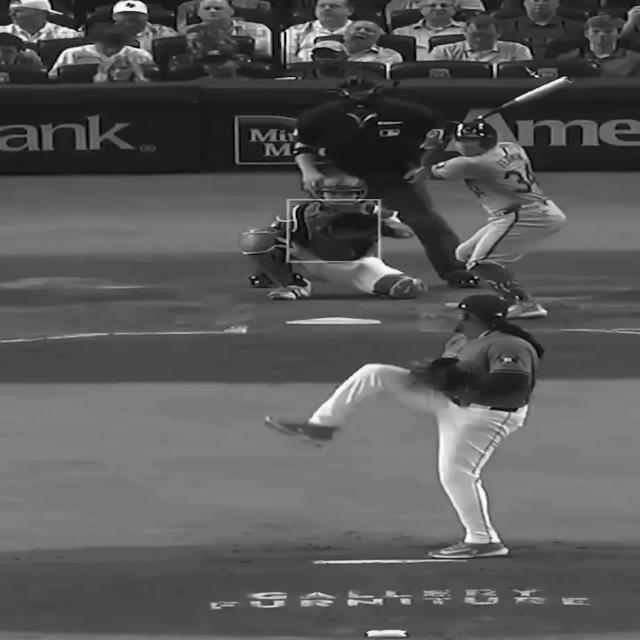baseball_glove: (320, 211, 378, 242), (411, 358, 460, 390)
bat: (476, 76, 573, 120)
shoe: (264, 416, 338, 446), (427, 541, 509, 559), (267, 281, 311, 300), (507, 300, 549, 319)
